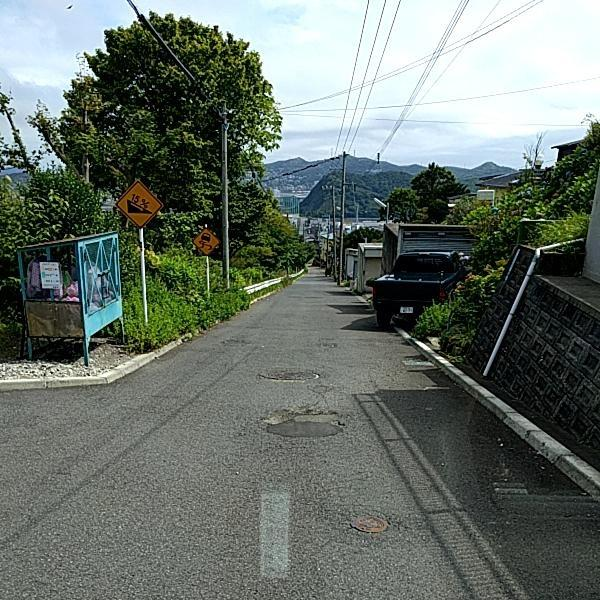pothole: (257, 406, 347, 441)
